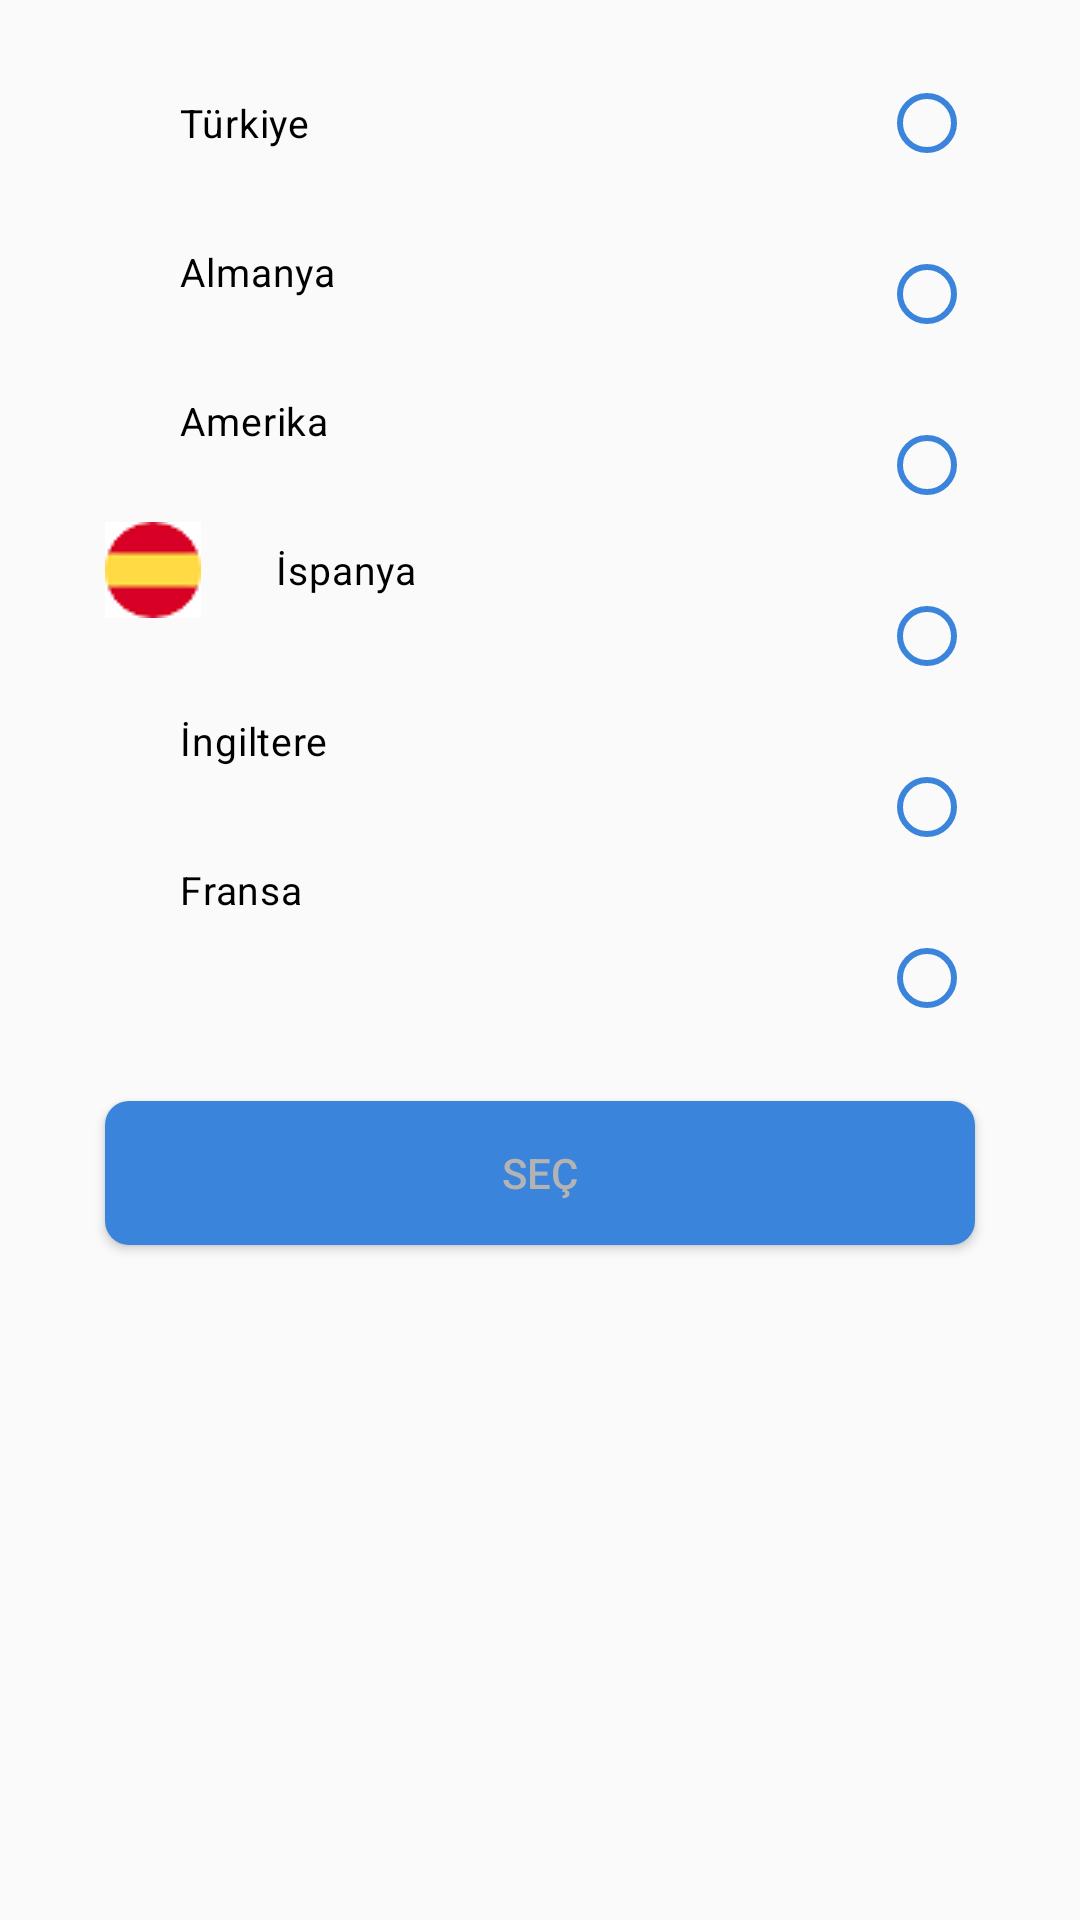

Named icons in this screenshot (1080px×1920px) and their centers, (x=x, y=y):
spain: (x=153, y=570)
